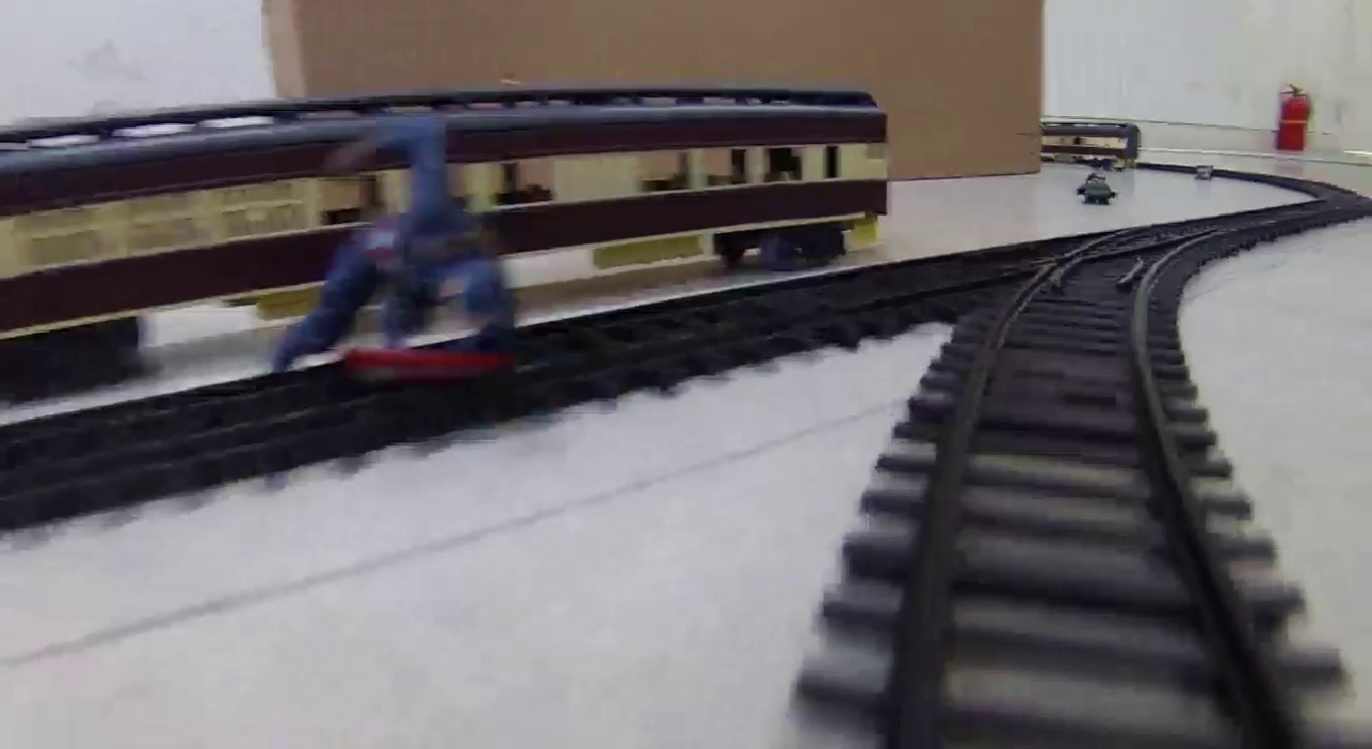people: (268, 114, 523, 386)
